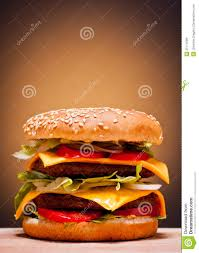hamburger: (17, 106, 168, 244)
